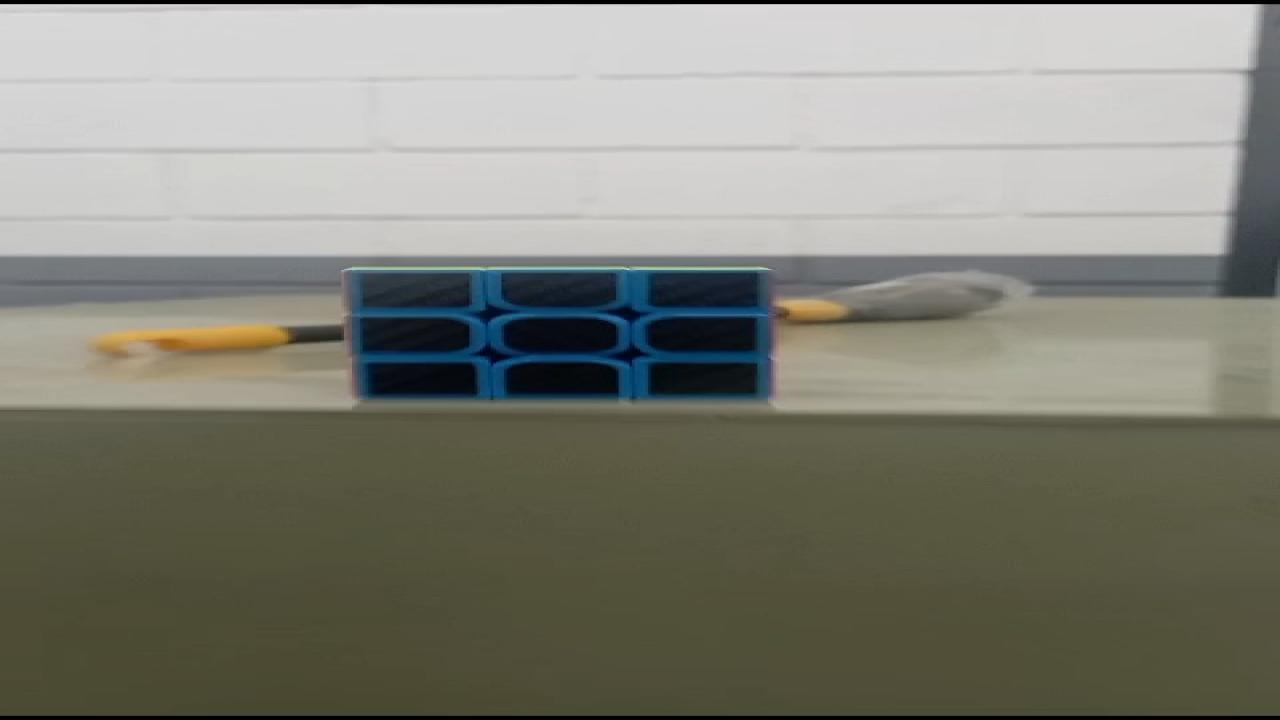Cube: (336, 264, 779, 404)
